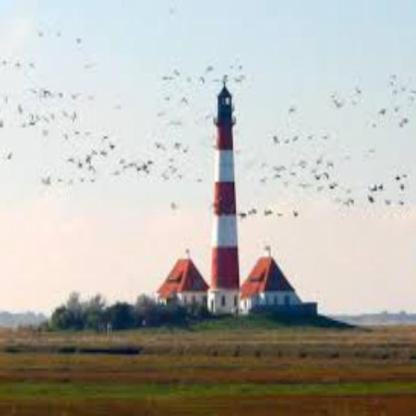lighthouse: (210, 83, 244, 282)
